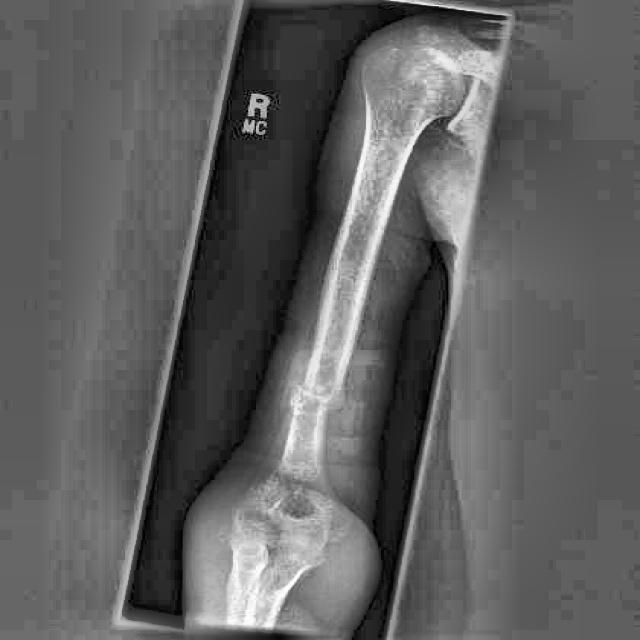humerus: (261, 323, 385, 454)
